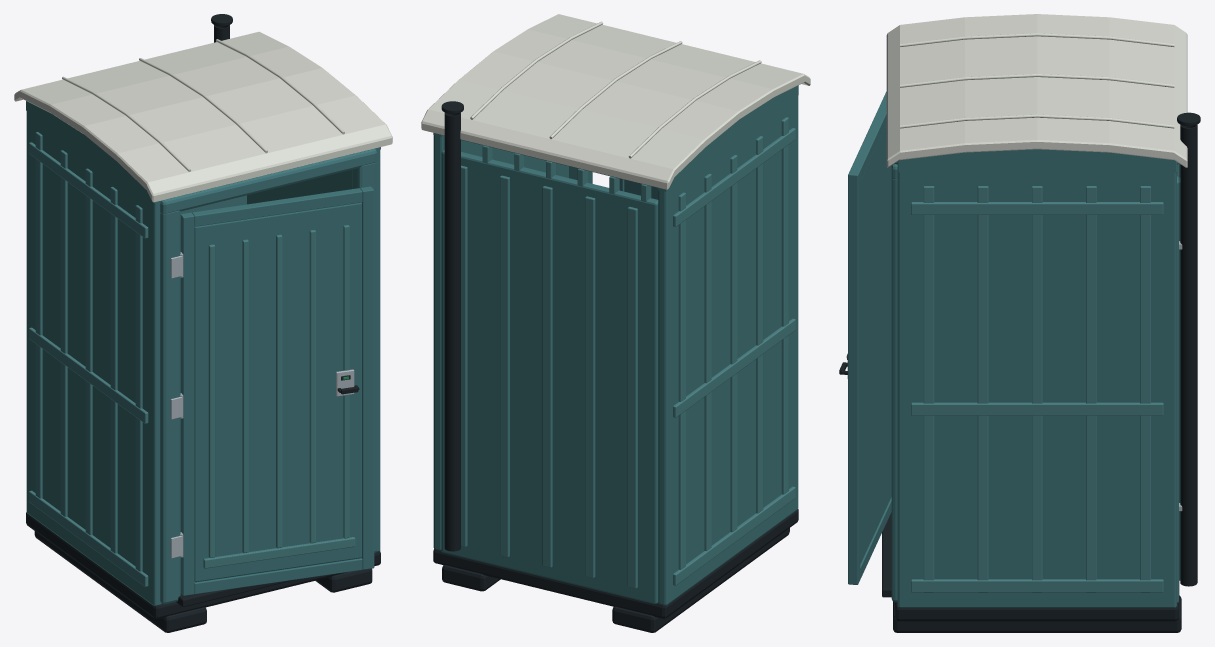
Rendered from city-portable-toilet.glb.
3 views of the same model, side by side, from view 1: azimuth 30°, elevation 25°; view 2: azimuth 150°, elevation 25°; view 3: azimuth 270°, elevation 25° (orthographic). The views are drawn at different scales.
Visible parts, largest first — view 1: Toilet door central skin, Molded side wall, Arched cabin weather roof, Front cabin door jamb, Toilet door perimeter vertical, Toilet door perimeter vertical.001, Door opening header, Molded side wall.001, Molded cabin floor, Raised side shell rib.004, Raised side shell rib.003, Raised side shell rib (+21 smaller); view 2: Molded rear wall, Molded side wall, Arched cabin weather roof, Hollow rear vent stack, Molded cabin floor, Molded side wall.001, Raised rear shell rib, Raised rear shell rib.001, Raised rear shell rib.002, Raised rear shell rib.003, Raised side shell rib.001, Raised side shell rib.002 (+13 smaller); view 3: Molded side wall.001, Arched cabin weather roof, Toilet door central skin, Hollow rear vent stack, Curved side roof closure.001, Toilet door perimeter vertical.001, Raised side shell rib.005, Raised side shell rib.006, Raised side shell rib.007, Raised side shell rib.008, Raised side shell rib.009, Molded cabin floor (+13 smaller).
Part boxes in pixels (bbox=[...]): Toilet door central skin: bbox=[194, 202, 361, 582]; Molded side wall: bbox=[26, 111, 161, 606]; Arched cabin weather roof: bbox=[14, 31, 392, 202]; Front cabin door jamb: bbox=[160, 210, 180, 604]; Toilet door perimeter vertical: bbox=[180, 212, 194, 595]; Toilet door perimeter vertical.001: bbox=[360, 186, 374, 569]; Door opening header: bbox=[160, 148, 376, 213]; Molded side wall.001: bbox=[247, 148, 380, 551]; Molded cabin floor: bbox=[26, 512, 380, 618]; Raised side shell rib.004: bbox=[35, 132, 42, 498]; Raised side shell rib.003: bbox=[60, 150, 67, 516]; Raised side shell rib: bbox=[135, 205, 142, 571]; Molded rear wall: bbox=[441, 149, 658, 604]; Molded side wall: bbox=[658, 95, 798, 605]; Arched cabin weather roof: bbox=[421, 14, 810, 189]; Hollow rear vent stack: bbox=[444, 112, 460, 551]; Molded cabin floor: bbox=[433, 508, 798, 618]; Molded side wall.001: bbox=[433, 134, 568, 549]; Raised rear shell rib: bbox=[627, 206, 637, 588]; Raised rear shell rib.001: bbox=[585, 196, 595, 578]; Raised rear shell rib.002: bbox=[542, 186, 552, 567]; Raised rear shell rib.003: bbox=[500, 175, 509, 557]; Raised side shell rib.001: bbox=[756, 136, 763, 513]; Raised side shell rib.002: bbox=[730, 155, 737, 532]; Molded side wall.001: bbox=[897, 170, 1176, 607]; Arched cabin weather roof: bbox=[886, 14, 1187, 167]; Toilet door central skin: bbox=[860, 125, 891, 563]; Hollow rear vent stack: bbox=[1180, 124, 1197, 586]; Curved side roof closure.001: bbox=[897, 149, 1176, 172]; Toilet door perimeter vertical.001: bbox=[848, 169, 860, 584]; Raised side shell rib.005: bbox=[923, 186, 934, 592]; Raised side shell rib.006: bbox=[977, 186, 988, 592]; Raised side shell rib.007: bbox=[1032, 186, 1042, 592]; Raised side shell rib.008: bbox=[1086, 186, 1096, 592]; Raised side shell rib.009: bbox=[1140, 186, 1150, 592]; Molded cabin floor: bbox=[895, 580, 1179, 621].
Size of the model in its own units: 1.25 by 2.33 by 1.5.
